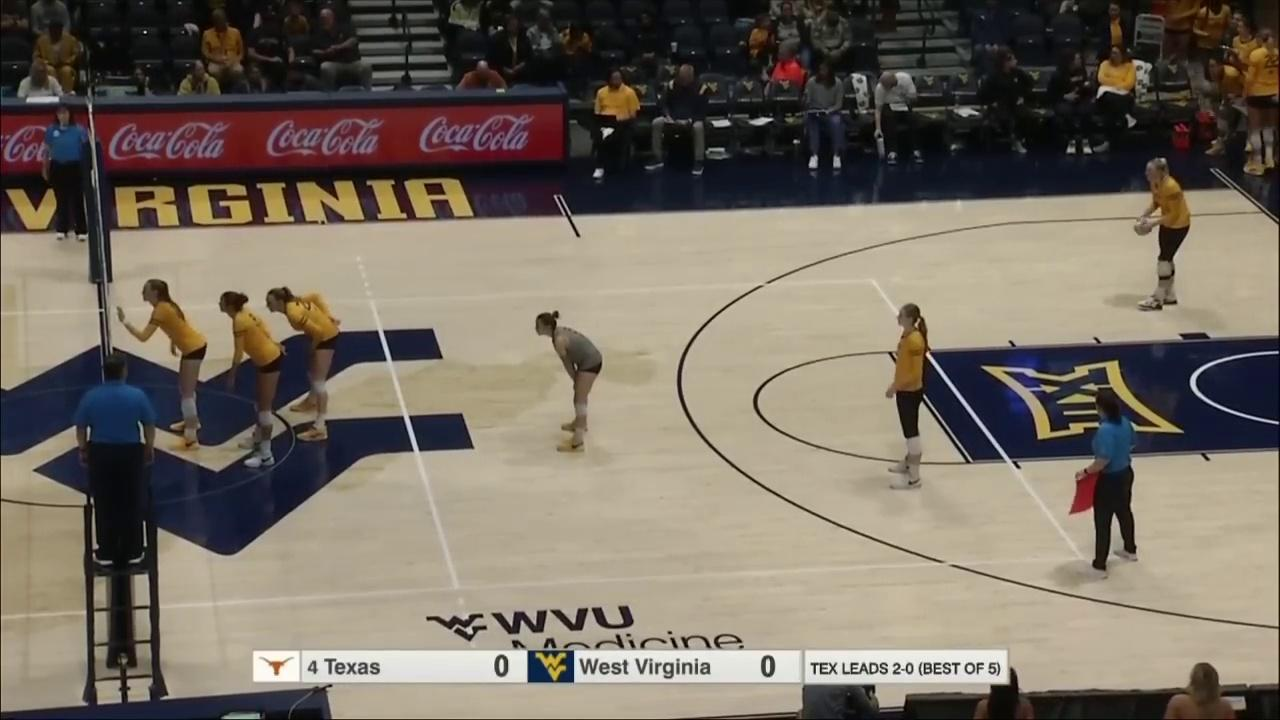player: (140, 280, 210, 450), (219, 289, 283, 469), (272, 287, 341, 445), (532, 312, 607, 453), (1128, 156, 1195, 312), (879, 299, 928, 493)
refree: (74, 355, 157, 568), (1073, 396, 1145, 571), (46, 102, 91, 246)
